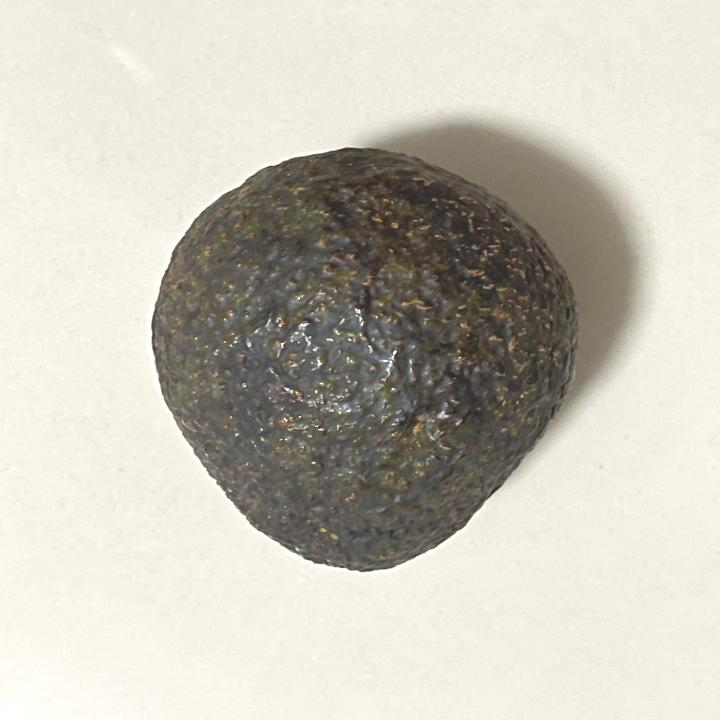Level2: (145, 142, 589, 578)
